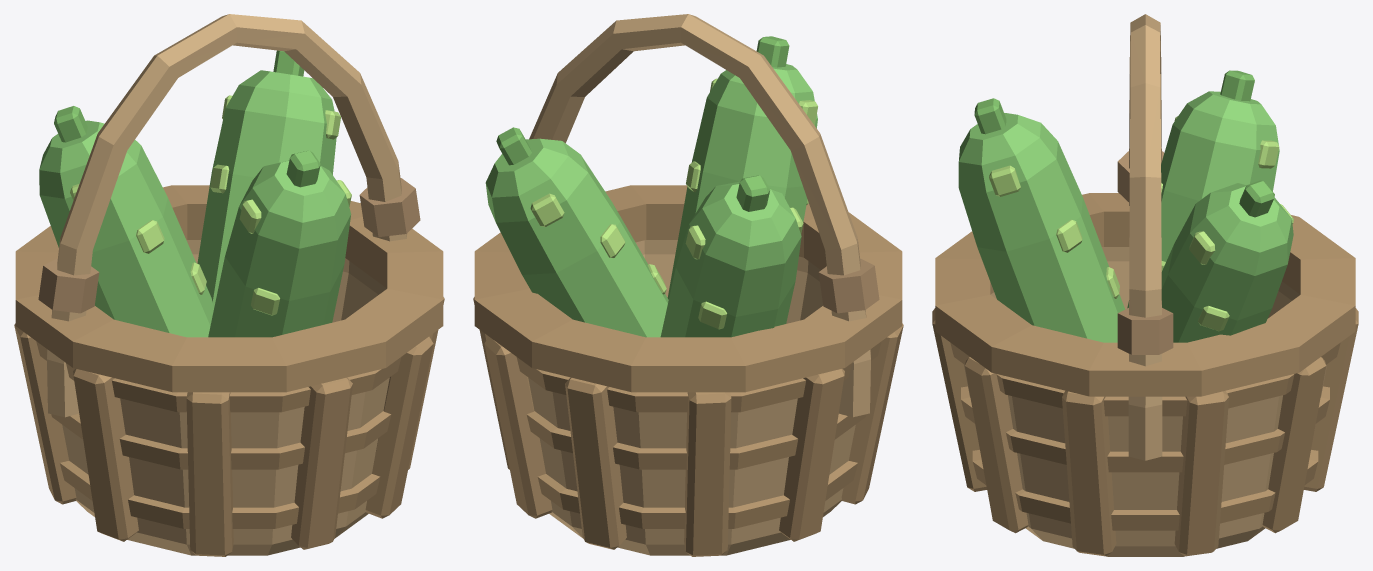
File: FarmCucumberBasket.fbx
3 views of the same model, side by side, from view 1: azimuth 30°, elevation 25°; view 2: azimuth 150°, elevation 25°; view 3: azimuth 270°, elevation 25° (orthographic).
Parts seen in each view (by area): view 1: FarmCucumberBasket.Weave, FarmCucumberBasket.Cukes, FarmCucumberBasket.Basket, FarmCucumberBasket.Binds, FarmCucumberBasket.CukeStuds, FarmCucumberBasket.Stems; view 2: FarmCucumberBasket.Weave, FarmCucumberBasket.Cukes, FarmCucumberBasket.Basket, FarmCucumberBasket.CukeStuds, FarmCucumberBasket.Stems, FarmCucumberBasket.Binds; view 3: FarmCucumberBasket.Weave, FarmCucumberBasket.Cukes, FarmCucumberBasket.Basket, FarmCucumberBasket.CukeStuds, FarmCucumberBasket.Binds, FarmCucumberBasket.Stems.
Part boxes in pixels (<box>): FarmCucumberBasket.Weave: <box>14,185,444,556</box>; FarmCucumberBasket.Cukes: <box>39,70,351,337</box>; FarmCucumberBasket.Basket: <box>47,14,407,555</box>; FarmCucumberBasket.Binds: <box>38,178,420,313</box>; FarmCucumberBasket.CukeStuds: <box>70,95,351,315</box>; FarmCucumberBasket.Stems: <box>54,50,320,187</box>; FarmCucumberBasket.Weave: <box>473,185,903,556</box>; FarmCucumberBasket.Cukes: <box>485,64,817,337</box>; FarmCucumberBasket.Basket: <box>528,14,870,555</box>; FarmCucumberBasket.CukeStuds: <box>530,78,817,329</box>; FarmCucumberBasket.Stems: <box>496,36,789,211</box>; FarmCucumberBasket.Binds: <box>818,258,879,313</box>; FarmCucumberBasket.Weave: <box>932,193,1358,556</box>; FarmCucumberBasket.Cukes: <box>958,91,1293,342</box>; FarmCucumberBasket.Basket: <box>964,14,1326,556</box>; FarmCucumberBasket.CukeStuds: <box>989,116,1293,331</box>; FarmCucumberBasket.Binds: <box>1117,151,1173,354</box>; FarmCucumberBasket.Stems: <box>974,70,1274,217</box>.
Size of the model in its own units: 3.25 by 4.03 by 3.29.
